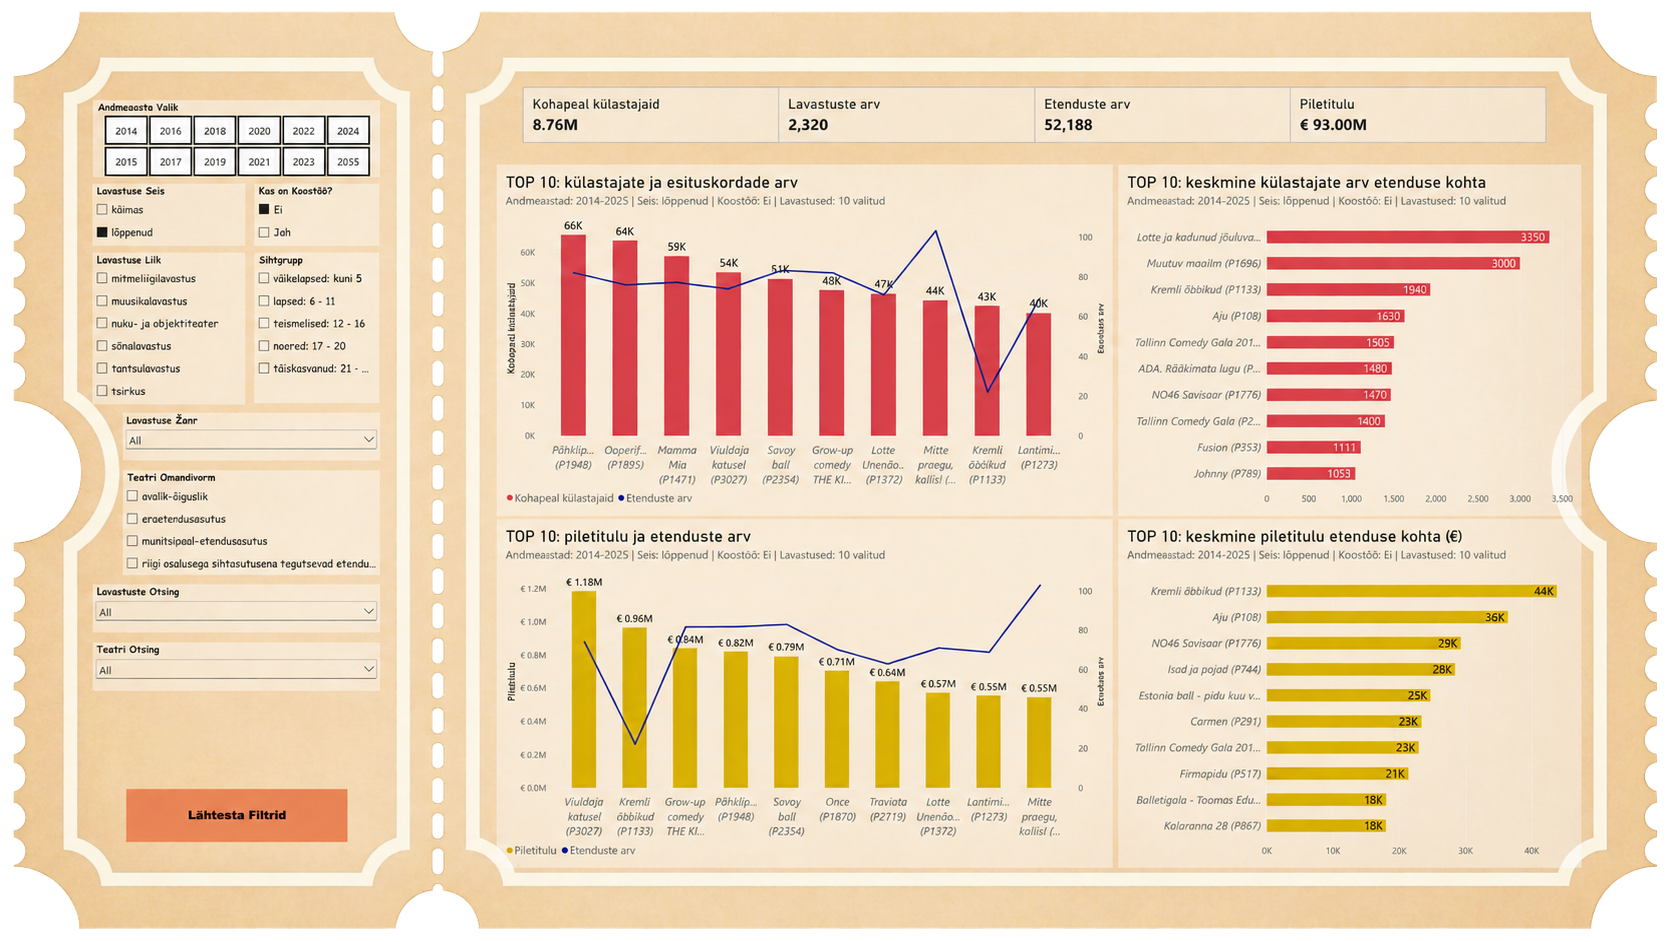

What the dashboard file says about the page in this screenshot:
{"tool":"powerbi","page":{"name":"TOP 10","canvas":[3000,1670],"ordinal":0},"visuals":[{"type":"lineClusteredColumnComboChart","title":"TOP 10: külastajate ja esituskordade arv","fields":{"Category":["dim_lavastused.H_Lavastus_Silt"],"Y":["H_measures.Kohapeal Külastajaid"],"Y2":["H_measures.Esituskorrad"]},"box":[883.3,276.7,1123.3,640],"z":0},{"type":"actionButton","title":"Vajuta siia ja kaota filtrid","box":[206,1416,404,96],"z":1000},{"type":"lineClusteredColumnComboChart","title":"TOP 10: piletitulu ja etenduste arv","fields":{"Category":["dim_lavastused.H_Lavastus_Silt"],"Y":["H_measures.Piletitulu"],"Y2":["H_measures.Esituskorrad"]},"box":[883.3,923.3,1123.3,636.7],"z":2000},{"type":"clusteredBarChart","title":"TOP 10: keskmine külastajate arv etenduse kohta","fields":{"Category":["dim_lavastused.H_Lavastus_Silt"],"Y":["H_measures.Keskmine Külastajate Arv"]},"box":[2016.7,276.7,846.7,640],"z":3000},{"type":"clusteredBarChart","title":"TOP 10: keskmine piletitulu etenduse kohta (€)","fields":{"Category":["dim_lavastused.H_Lavastus_Silt"],"Y":["H_measures.Keskmine Piletitulu"]},"box":[2016.7,923.3,846.7,636.7],"z":4000},{"type":"cardVisual","fields":{"Data":["H_measures.Kohapeal Külastajaid","H_measures.lavastuste_arv","H_measures.Esituskorrad","H_measures.Piletitulu"]},"box":[930.2,135.8,1869.5,101.3],"z":5000},{"type":"slicer","fields":{"Values":["fact_repertuaar.loppenud_lavastus"]},"box":[144.2,312.5,278.8,113],"z":6000},{"type":"slicer","fields":{"Values":["dim_teater.omandivorm"]},"box":[200,834.4,468.9,192],"z":7000},{"type":"slicer","fields":{"Values":["dim_lavastused.lavastuse_liik"]},"box":[144.2,437.5,278.8,276.4],"z":8000},{"type":"slicer","fields":{"Values":["dim_lavastused.sihtgrupp"]},"box":[439.9,437.5,228.3,274],"z":9000},{"type":"slicer","fields":{"Values":["dim_lavastused.H_koostoo_silt"]},"box":[439.9,312.5,228.3,113],"z":10000},{"type":"slicer","fields":{"Values":["dim_aeg.aasta"]},"box":[144.8,159.9,524.8,140],"z":11000},{"type":"slicer","fields":{"Values":["dim_lavastused.H_Lavastus_Silt"]},"box":[144,1042,526,88],"z":12000},{"type":"slicer","fields":{"Values":["dim_lavastused.zhanr"]},"box":[198.8,728.9,471.5,86.6],"z":13000},{"type":"slicer","fields":{"Values":["dim_teater.teatri_nimi"]},"box":[144,1148,526,88],"z":14000}]}

Visuals, with their boxes in screenshot pixels (x1, y1, x2, y2), scaled from the page's 3000x1670 canvas onto the 1670x942 screenshot:
"TOP 10: külastajate ja esituskordade arv" lineClusteredColumnComboChart: pyautogui.locateOnScreen(492, 156, 1117, 517)
"Vajuta siia ja kaota filtrid" actionButton: pyautogui.locateOnScreen(115, 799, 340, 853)
"TOP 10: piletitulu ja etenduste arv" lineClusteredColumnComboChart: pyautogui.locateOnScreen(492, 521, 1117, 880)
"TOP 10: keskmine külastajate arv etenduse kohta" clusteredBarChart: pyautogui.locateOnScreen(1123, 156, 1594, 517)
"TOP 10: keskmine piletitulu etenduse kohta (€)" clusteredBarChart: pyautogui.locateOnScreen(1123, 521, 1594, 880)
cardVisual - H_measures.Kohapeal Külastajaid x H_measures.lavastuste_arv: pyautogui.locateOnScreen(518, 77, 1558, 134)
slicer - fact_repertuaar.loppenud_lavastus: pyautogui.locateOnScreen(80, 176, 235, 240)
slicer - dim_teater.omandivorm: pyautogui.locateOnScreen(111, 471, 372, 579)
slicer - dim_lavastused.lavastuse_liik: pyautogui.locateOnScreen(80, 247, 235, 403)
slicer - dim_lavastused.sihtgrupp: pyautogui.locateOnScreen(245, 247, 372, 401)
slicer - dim_lavastused.H_koostoo_silt: pyautogui.locateOnScreen(245, 176, 372, 240)
slicer - dim_aeg.aasta: pyautogui.locateOnScreen(81, 90, 373, 169)
slicer - dim_lavastused.H_Lavastus_Silt: pyautogui.locateOnScreen(80, 588, 373, 637)
slicer - dim_lavastused.zhanr: pyautogui.locateOnScreen(111, 411, 373, 460)
slicer - dim_teater.teatri_nimi: pyautogui.locateOnScreen(80, 648, 373, 697)
